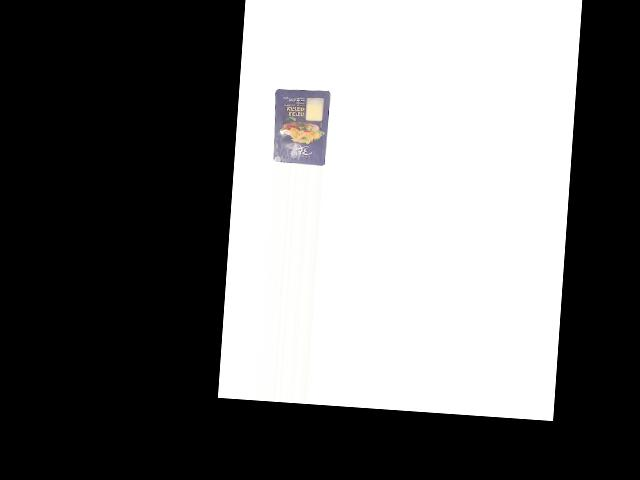cheese: (268, 87, 330, 166)
